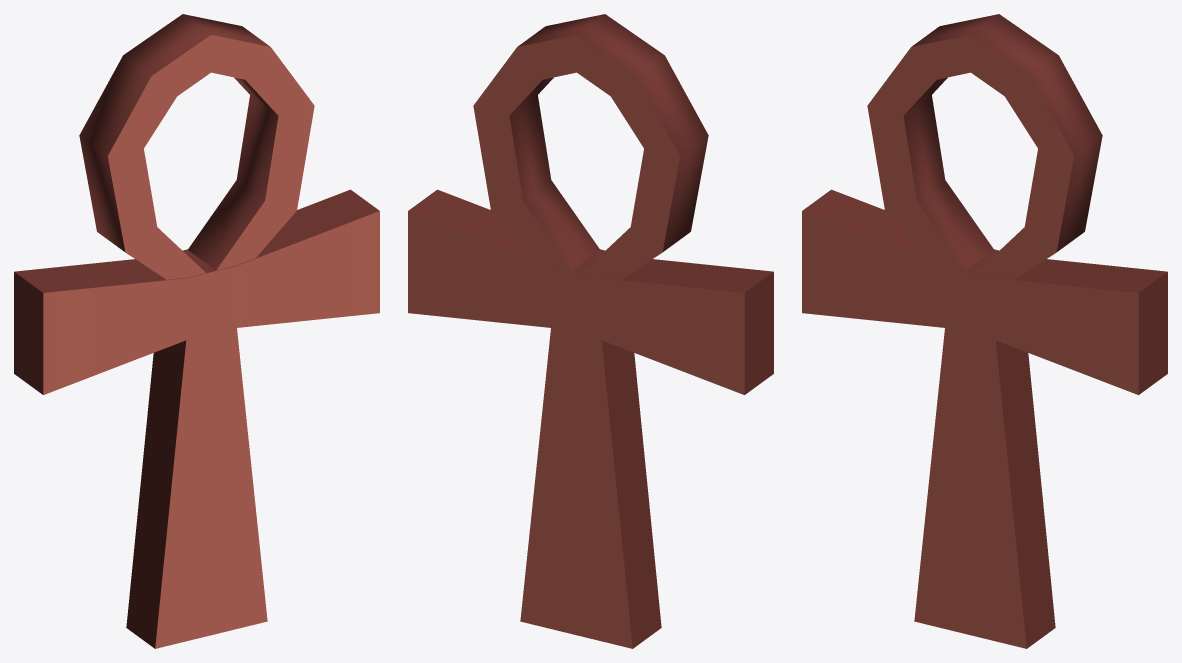
Rendered from Ankh Red.fbx.
3 views of the same model, side by side, from view 1: azimuth 30°, elevation 25°; view 2: azimuth 150°, elevation 25°; view 3: azimuth 330°, elevation 25° (orthographic).
Visible parts, largest first — view 1: Ankh Red; view 2: Ankh Red; view 3: Ankh Red.
Boxes of the visible parts, box(x1,y1,x2,y2) form: Ankh Red: box(14, 14, 379, 648); Ankh Red: box(408, 14, 773, 648); Ankh Red: box(802, 14, 1167, 648).
Bounding box in the file's own units: 2.06 × 0.3106 × 3.52.
1 material, 1 textured.
